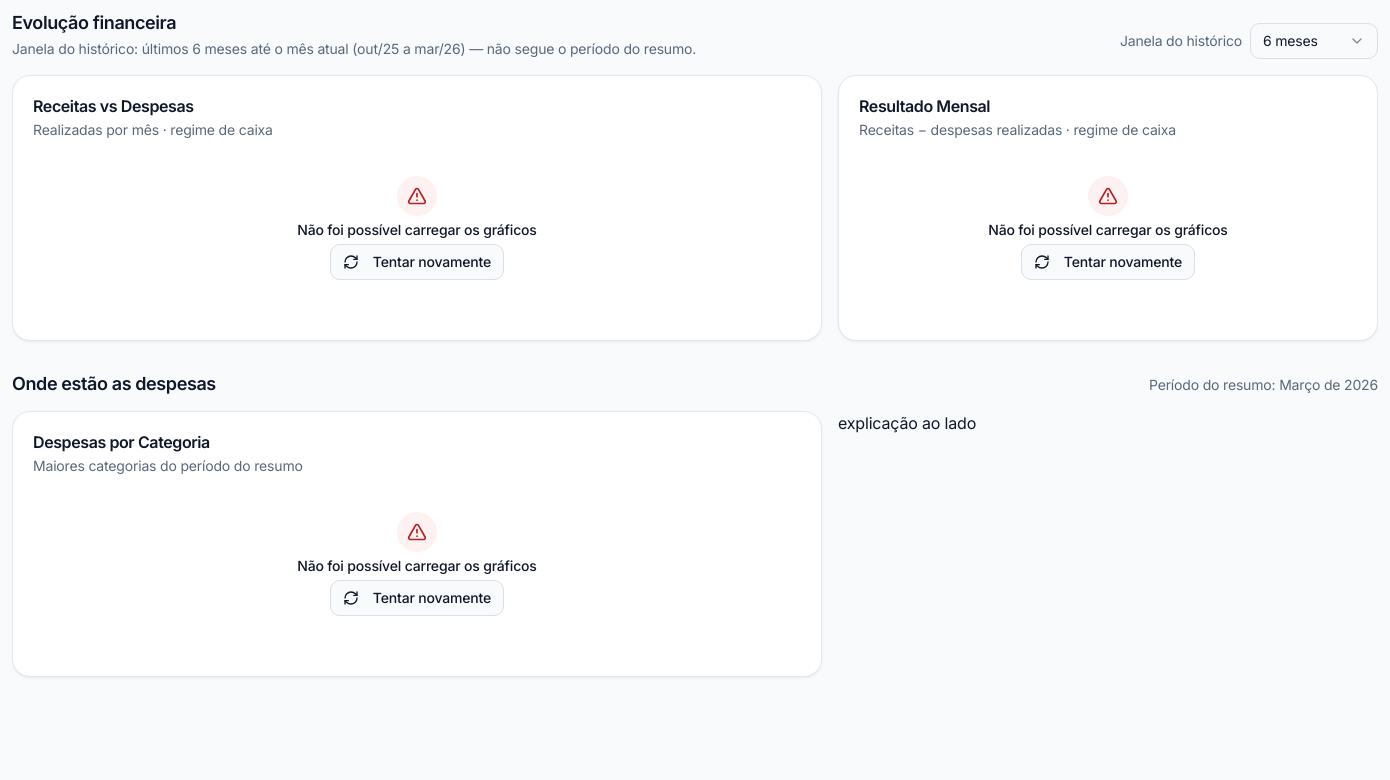
Test case: DashboardCharts — Redesign V2 › erro mostra estado de erro com nova tentativa, sem virar gráfico vazio
Expected: the text "Não foi possível carregar os gráficos" below "Realizadas por mês · regime de caixa" is shown, [297,220,537,238]
Expected: the text "explicação ao lado" is shown, [838,413,976,433]
Click the button "Tentar novamente" below "Realizadas por mês · regime de caixa" at (417, 262), box [330,244,504,280]
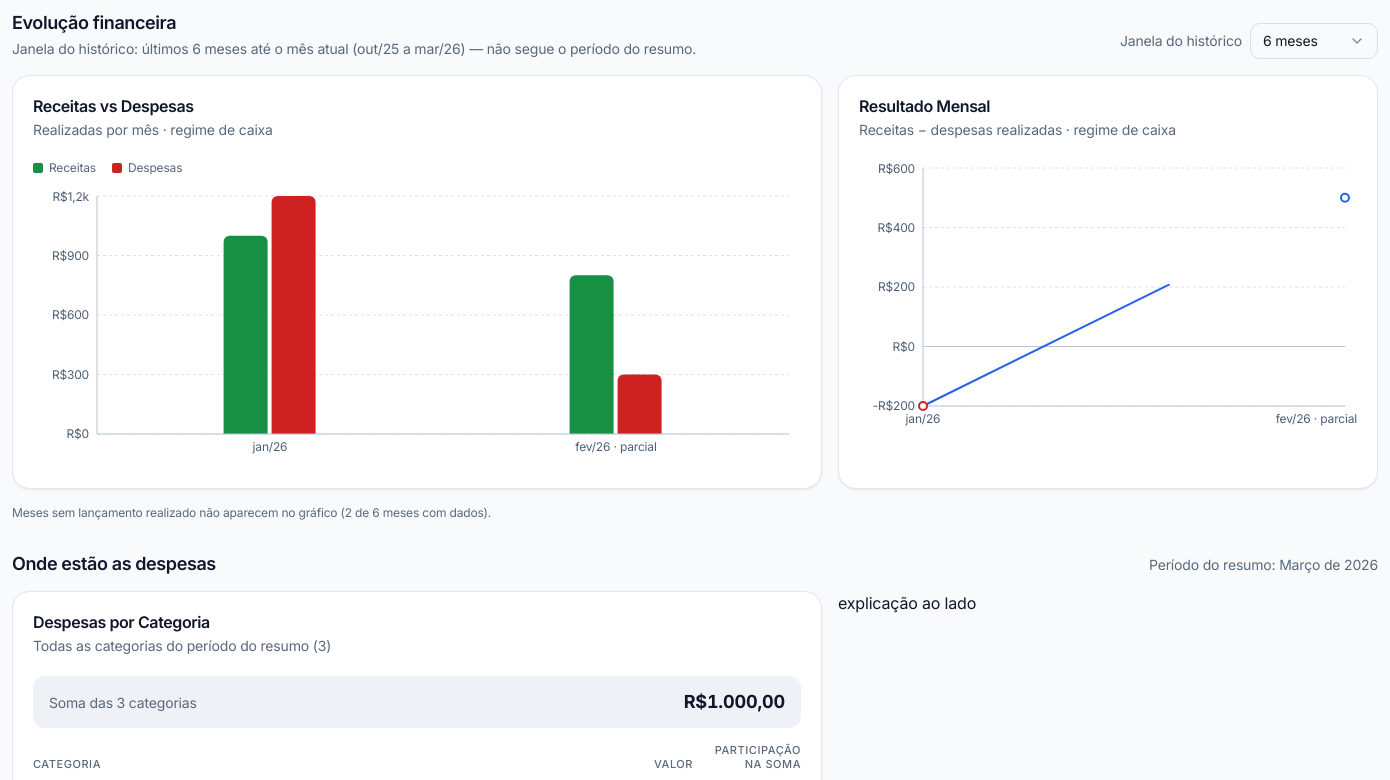
Expected: the text "Soma das 3 categorias" is shown, [49,693,197,713]
